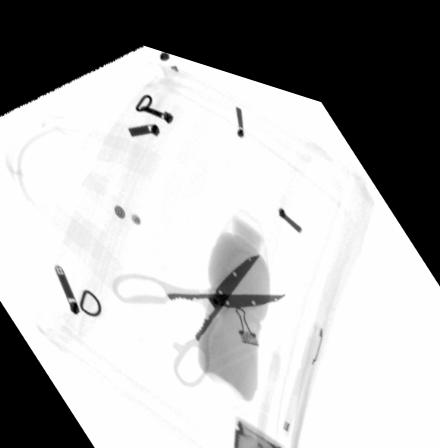Scissors: (107, 236, 285, 373)
